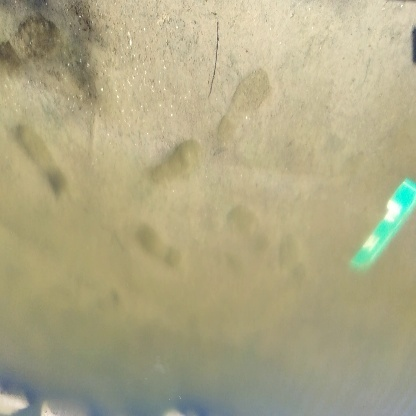plastic-garbage: (348, 173, 416, 277)
